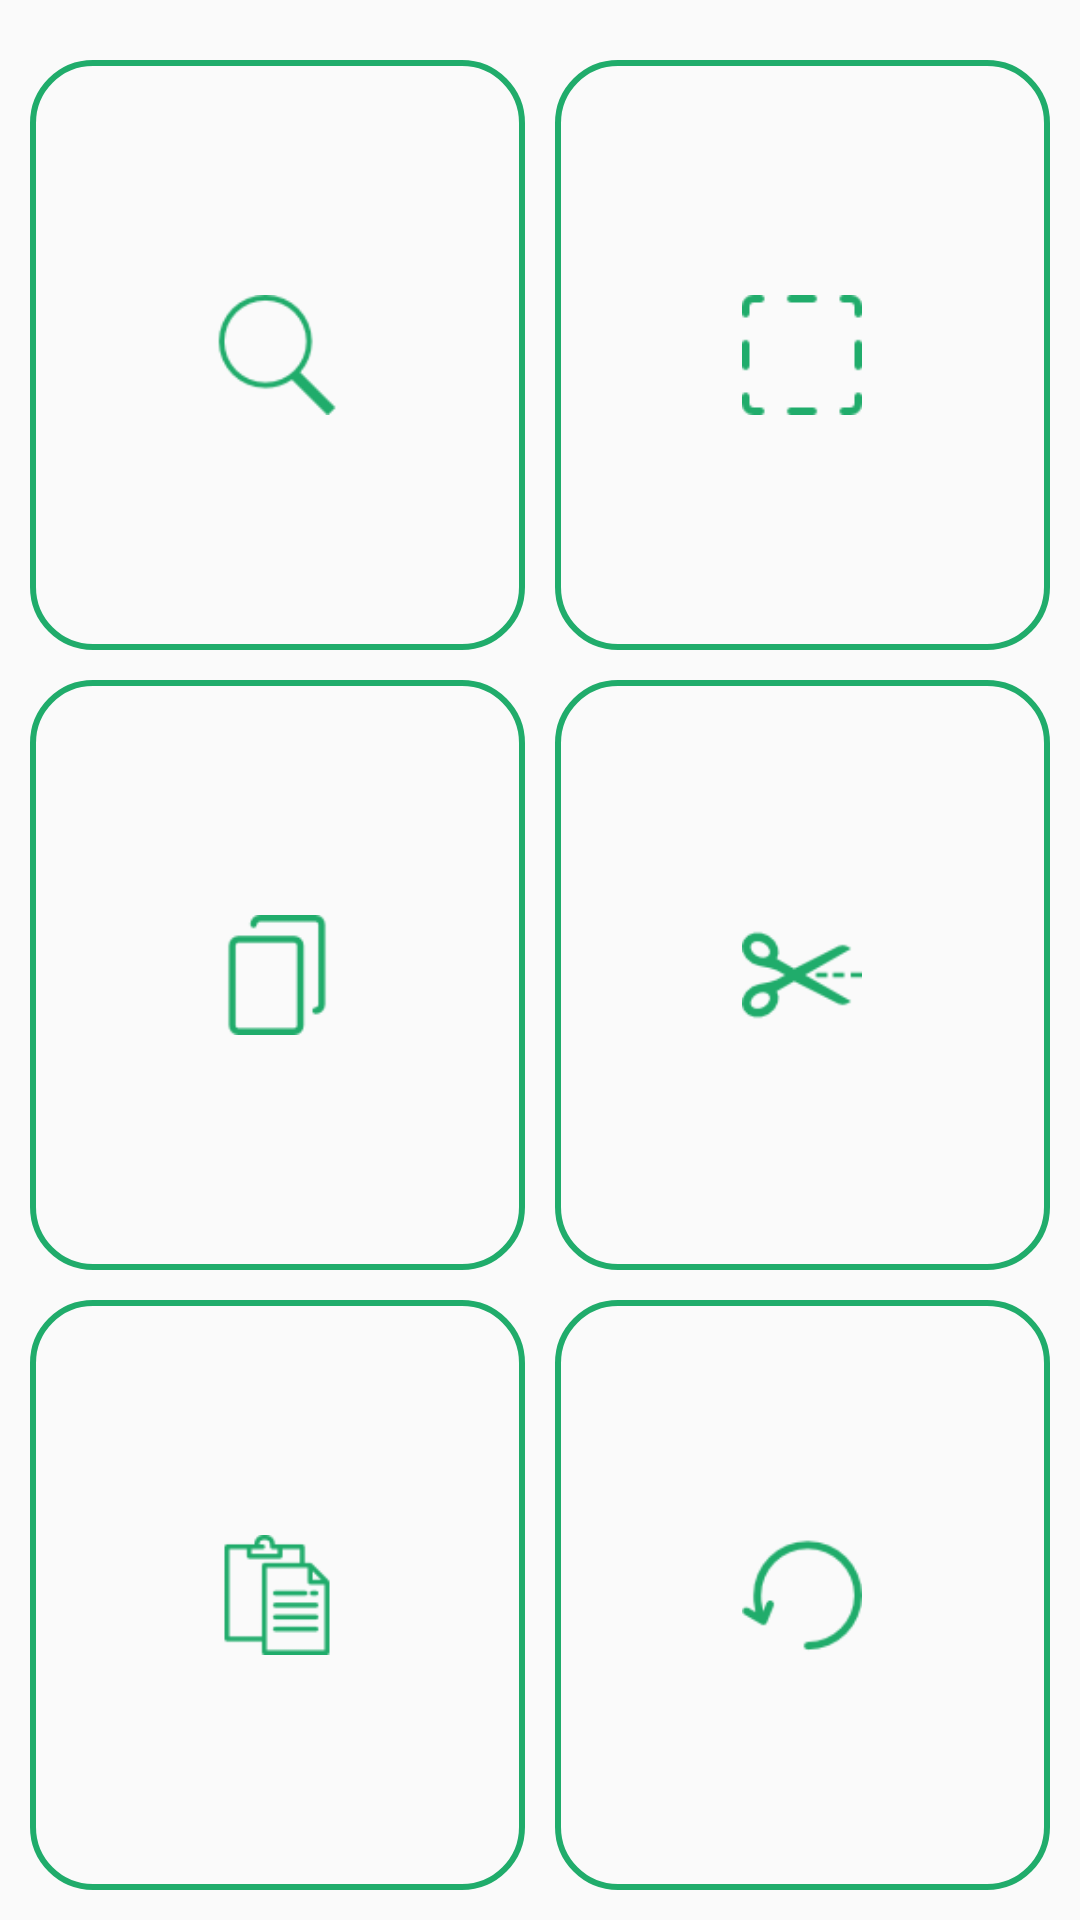

Where to tap for icons on this 1080px x 1920px app screen, as point (x, y):
cut: point (802, 975)
paste: point (277, 1595)
search: point (277, 355)
select: point (802, 355)
undo: point (802, 1595)
